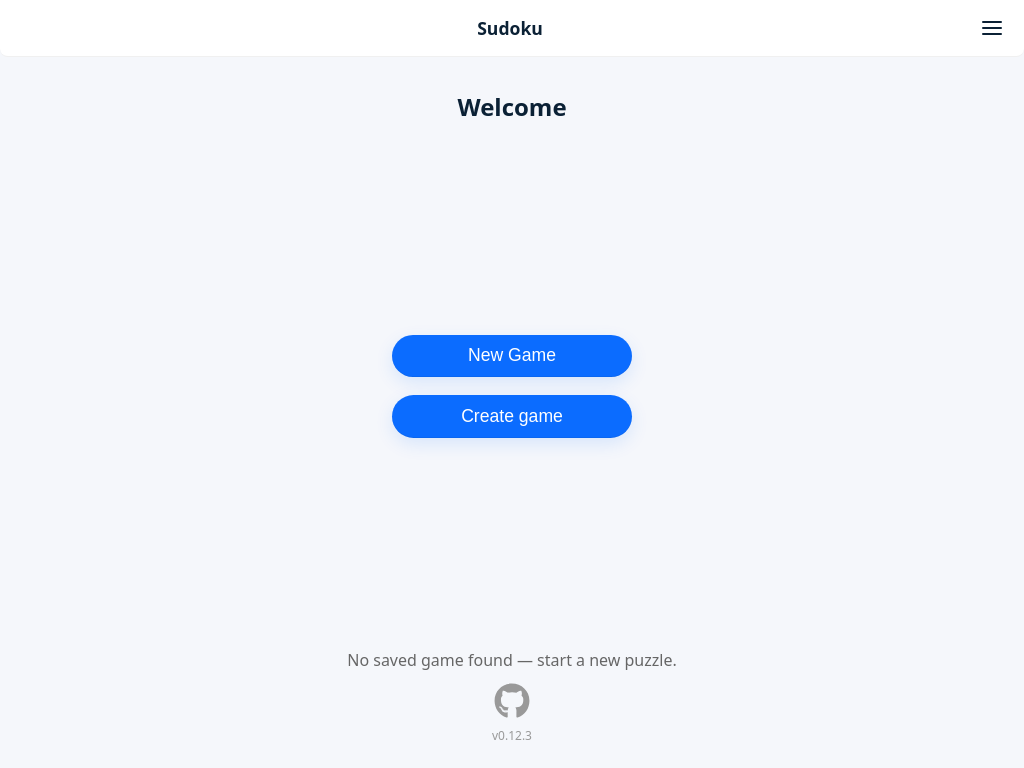
App › opens new game modal when New Game clicked
Click the button "New Game" at (512, 356), box top-left (392, 335), bottom-right (632, 377)
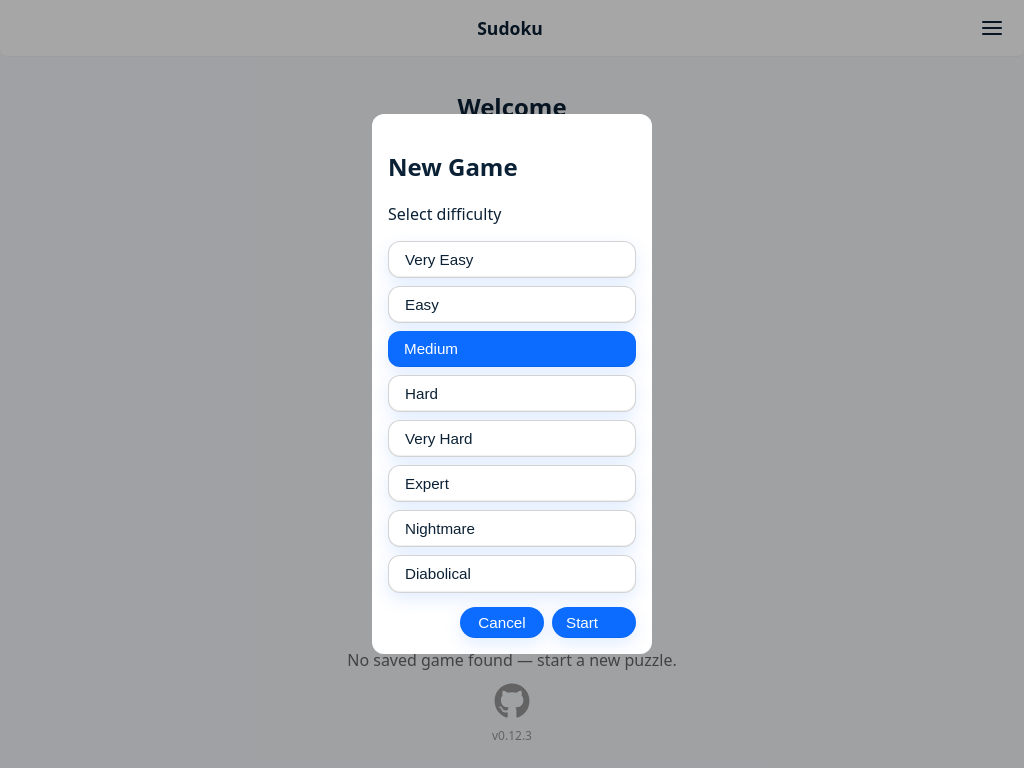
Result: the dialog is shown
Result: the heading "New Game" is shown at top-left (388, 150), bottom-right (518, 183)
